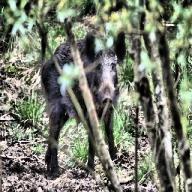boar: (40, 31, 125, 176)
